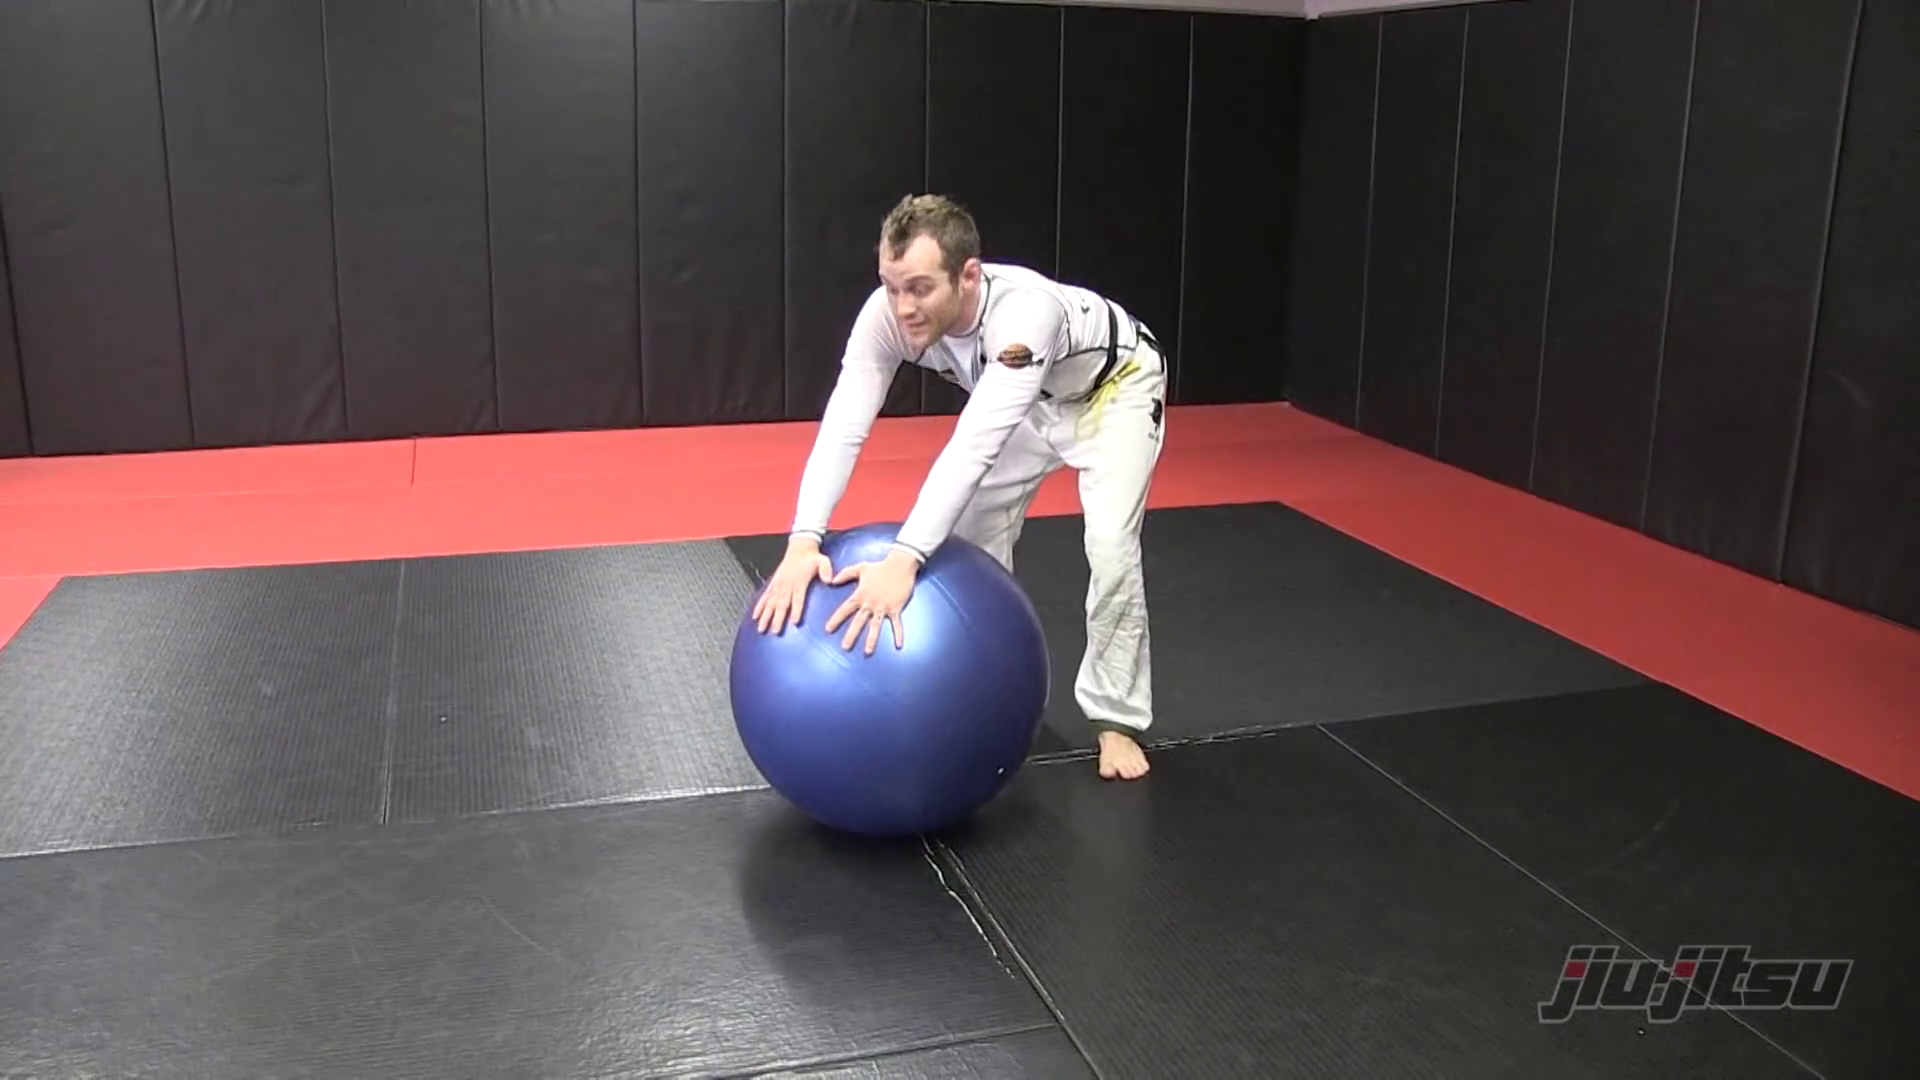yogaball: (708, 524, 1060, 865)
